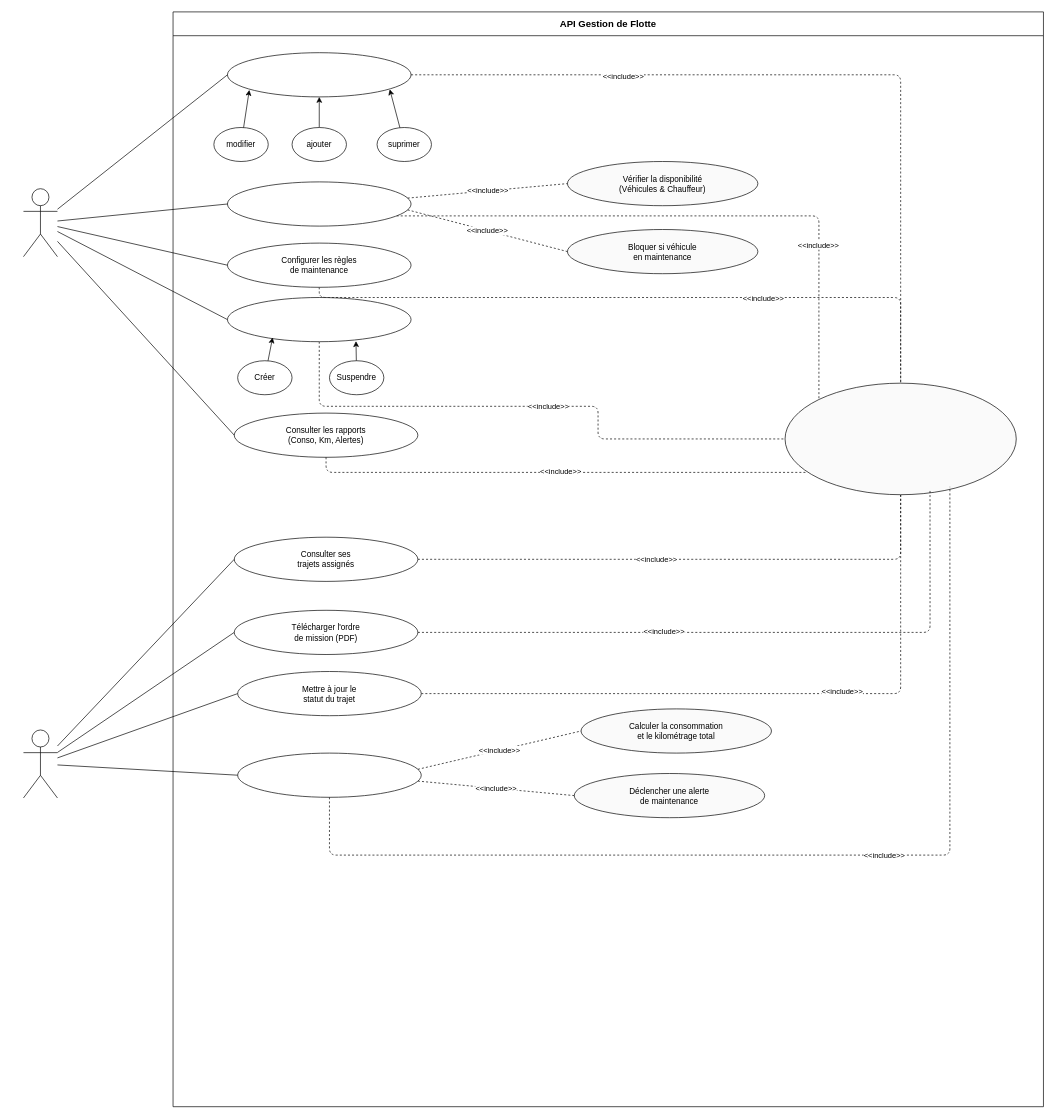
The diagram is 1055 pixels wide and 1119 high, and some of its shapes have lost their labels. The centre of each missing label's shape, as x and y in pixels:
"Administrateur" belongs at (40,222).
"Authentification jwt" belongs at (900,438).
"Chauffeur" belongs at (40,763).
"Créer et assigner des trajets" belongs at (319,203).
"Gérer les comptes chauffeurs" belongs at (319,319).
"Gérer les ressources (Camions, Remorques, Pneus)" belongs at (319,74).
"Saisir les données de fin (Km arrivée, Gasoil, Remarques)" belongs at (329,774).
